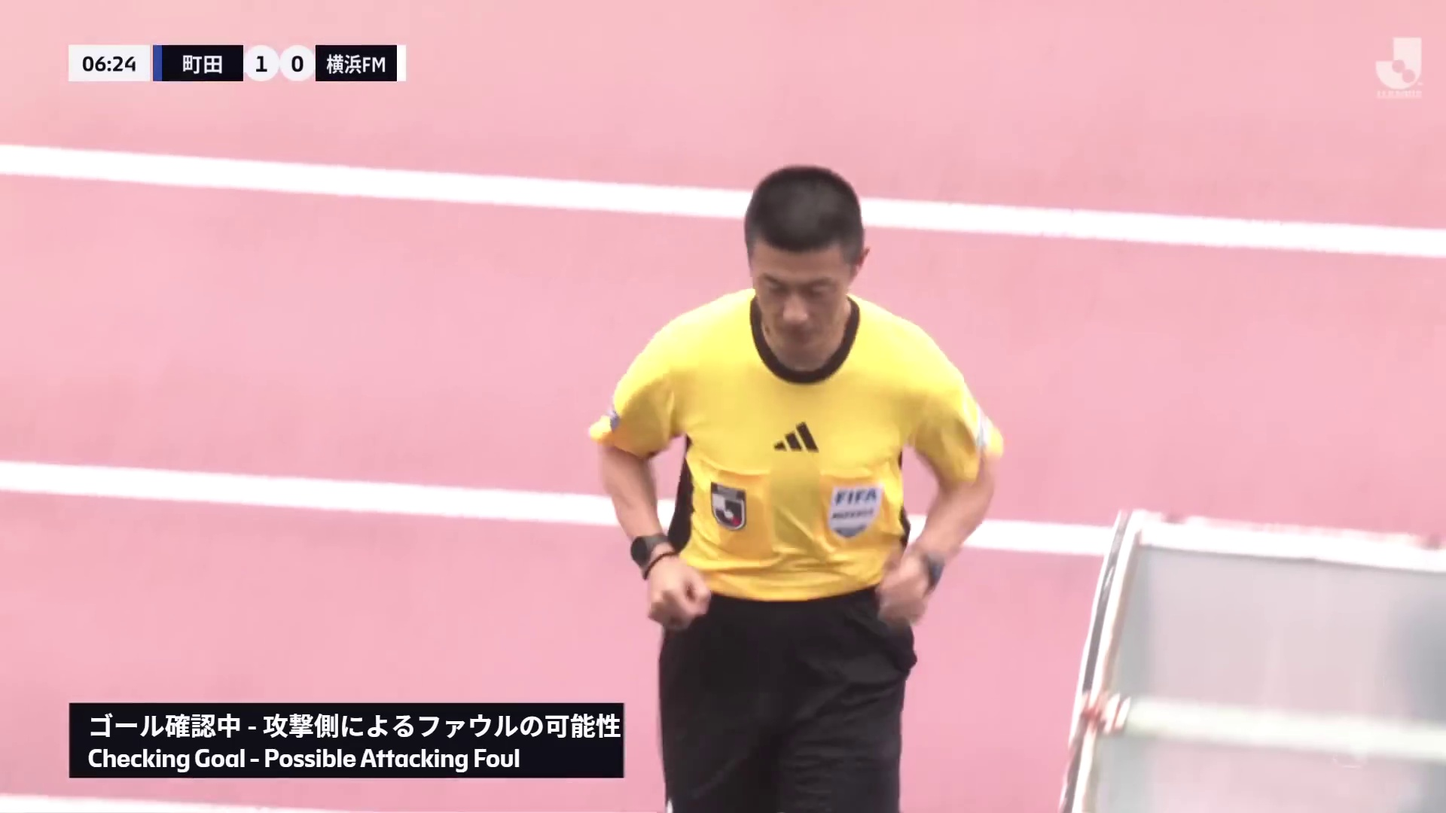referee: (584, 161, 1006, 813)
